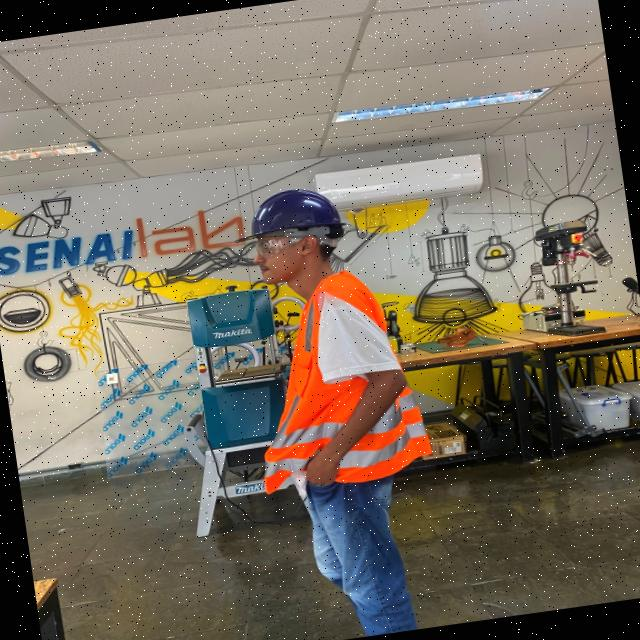CAPACETE: (234, 186, 349, 247)
COLETE: (260, 269, 437, 498)
OCULOS: (252, 233, 328, 259)
SEM LUVA: (300, 443, 344, 487)
